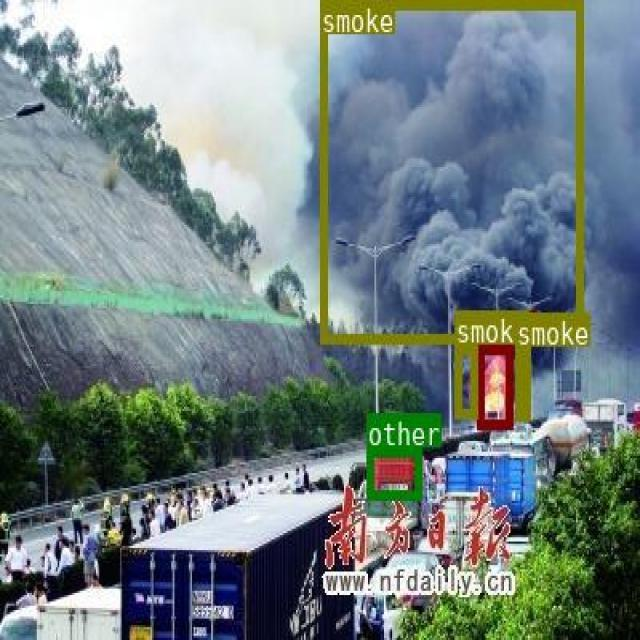fire: (476, 343, 511, 426)
smoke: (319, 0, 581, 342), (454, 344, 477, 418), (514, 347, 529, 419)
